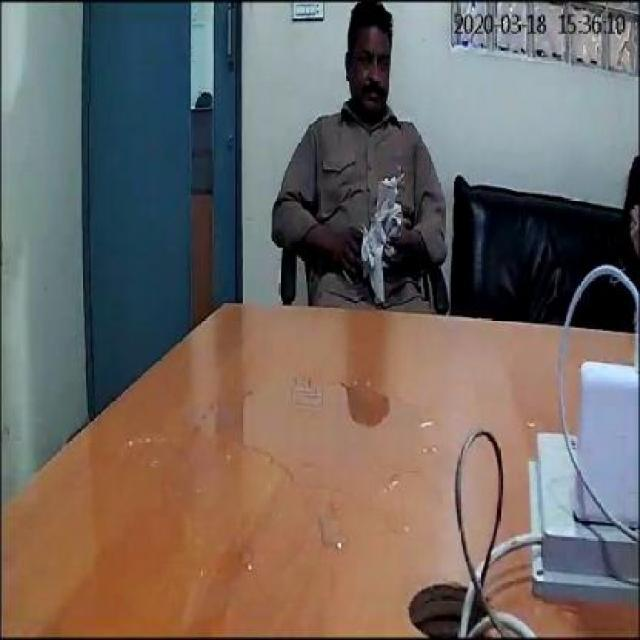spill: (130, 361, 428, 594)
